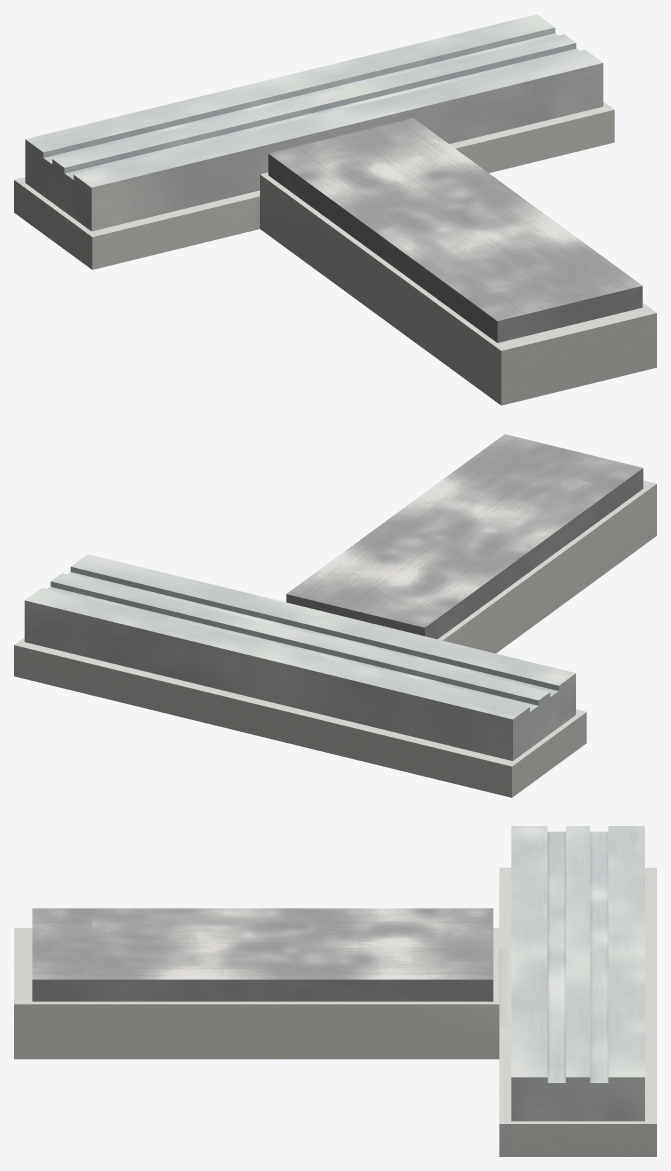
Rendered from bujian1.obj.
The picture shows the model from 3 angles, top to bottom: view 1: azimuth 30°, elevation 25°; view 2: azimuth 150°, elevation 25°; view 3: azimuth 270°, elevation 25°; orthographic projection. The views are drawn at different scales.
Parts seen in each view (by area): view 1: JCwoshi_daoguiX, JCwoshi_daoguiZ, JCwoshi_zhicheng; view 2: JCwoshi_daoguiX, JCwoshi_daoguiZ, JCwoshi_zhicheng; view 3: JCwoshi_daoguiZ, JCwoshi_zhicheng, JCwoshi_daoguiX.
Boxes of the visible parts, left/top/right/bottom form: JCwoshi_daoguiX: left=25, top=14, right=603, bottom=231; JCwoshi_daoguiZ: left=268, top=118, right=642, bottom=342; JCwoshi_zhicheng: left=14, top=101, right=656, bottom=405; JCwoshi_daoguiX: left=24, top=554, right=575, bottom=760; JCwoshi_daoguiZ: left=286, top=434, right=643, bottom=639; JCwoshi_zhicheng: left=14, top=480, right=656, bottom=797; JCwoshi_daoguiZ: left=32, top=908, right=493, bottom=1001; JCwoshi_zhicheng: left=14, top=867, right=656, bottom=1156; JCwoshi_daoguiX: left=511, top=826, right=644, bottom=1121.
Bounding box in the file's own units: 5000 × 700 × 5300.
3 materials, 3 textured.
